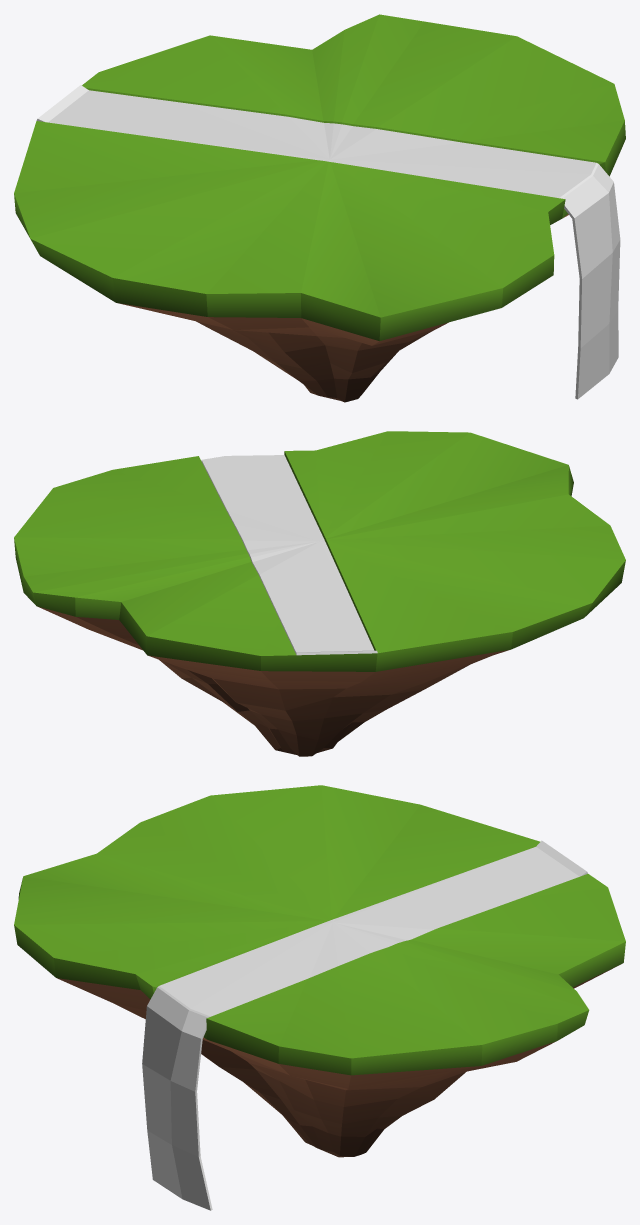
The model's file is floatingIsland.fbx.
3 views of the same model, one above another, from view 1: azimuth 30°, elevation 25°; view 2: azimuth 150°, elevation 25°; view 3: azimuth 270°, elevation 25° (orthographic). The views are drawn at different scales.
Parts seen in each view (by area): view 1: Vert.002, Vert.001, Vert; view 2: Vert.002, Vert.001, Vert; view 3: Vert.002, Vert.001, Vert.
Part boxes in pixels (bbox=[...]): Vert.002: bbox=[14, 14, 625, 341]; Vert.001: bbox=[36, 85, 620, 399]; Vert: bbox=[117, 214, 568, 402]; Vert.002: bbox=[14, 431, 625, 671]; Vert.001: bbox=[201, 455, 377, 655]; Vert: bbox=[37, 606, 510, 756]; Vert.002: bbox=[14, 785, 625, 1075]; Vert.001: bbox=[142, 840, 587, 1210]; Vert: bbox=[57, 964, 620, 1157].
Size of the model in its own units: 685 by 272 by 656.
Materials: 2 (2 with a texture image).
